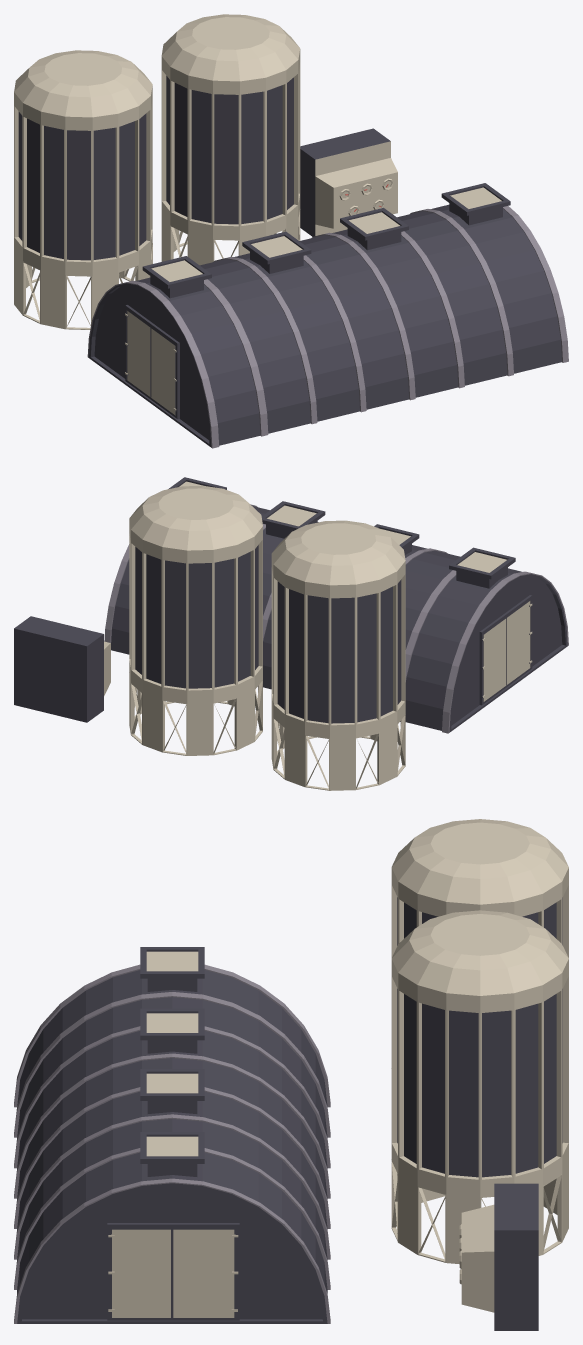
Rendered from factory_02.fbx.
3 renders of one model, top to bottom at view 1: azimuth 30°, elevation 25°; view 2: azimuth 150°, elevation 25°; view 3: azimuth 270°, elevation 25°, orthographic. The views are drawn at different scales.
Parts seen in each view (by area): view 1: factory_02_main.004, tower_0.000, tower_0.001, Torus.004; view 2: tower_0.000, tower_0.001, factory_02_main.004, Torus.004; view 3: factory_02_main.004, tower_0.001, tower_0.000, Torus.004.
Part boxes in pixels (x1,y1,x2,y2): factory_02_main.004: (87, 183, 568, 448); tower_0.000: (14, 50, 152, 329); tower_0.001: (161, 14, 300, 265); Torus.004: (300, 128, 397, 236); tower_0.000: (271, 520, 405, 790); tower_0.001: (129, 485, 262, 755); factory_02_main.004: (104, 477, 568, 733); Torus.004: (14, 616, 110, 722); factory_02_main.004: (14, 947, 330, 1323); tower_0.001: (391, 910, 568, 1264); tower_0.000: (391, 819, 568, 957); Torus.004: (459, 1183, 538, 1330).
Bounding box in the file's own units: 494 × 292 × 501.
